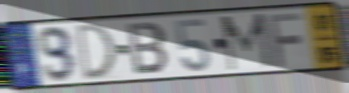5: (174, 16, 212, 74)
9: (35, 24, 79, 84)
B: (125, 21, 171, 76)
D: (74, 21, 117, 83)
F: (266, 11, 306, 69)
M: (218, 11, 275, 74)
